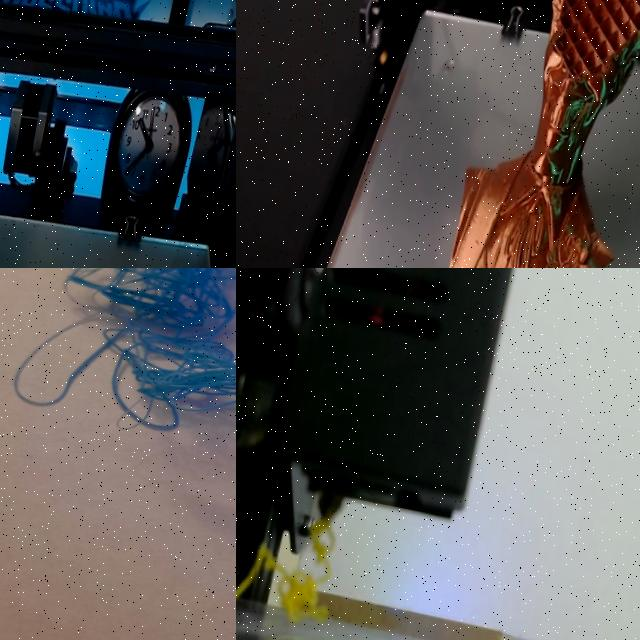spaghetti: (0, 268, 236, 473), (236, 520, 334, 624)
